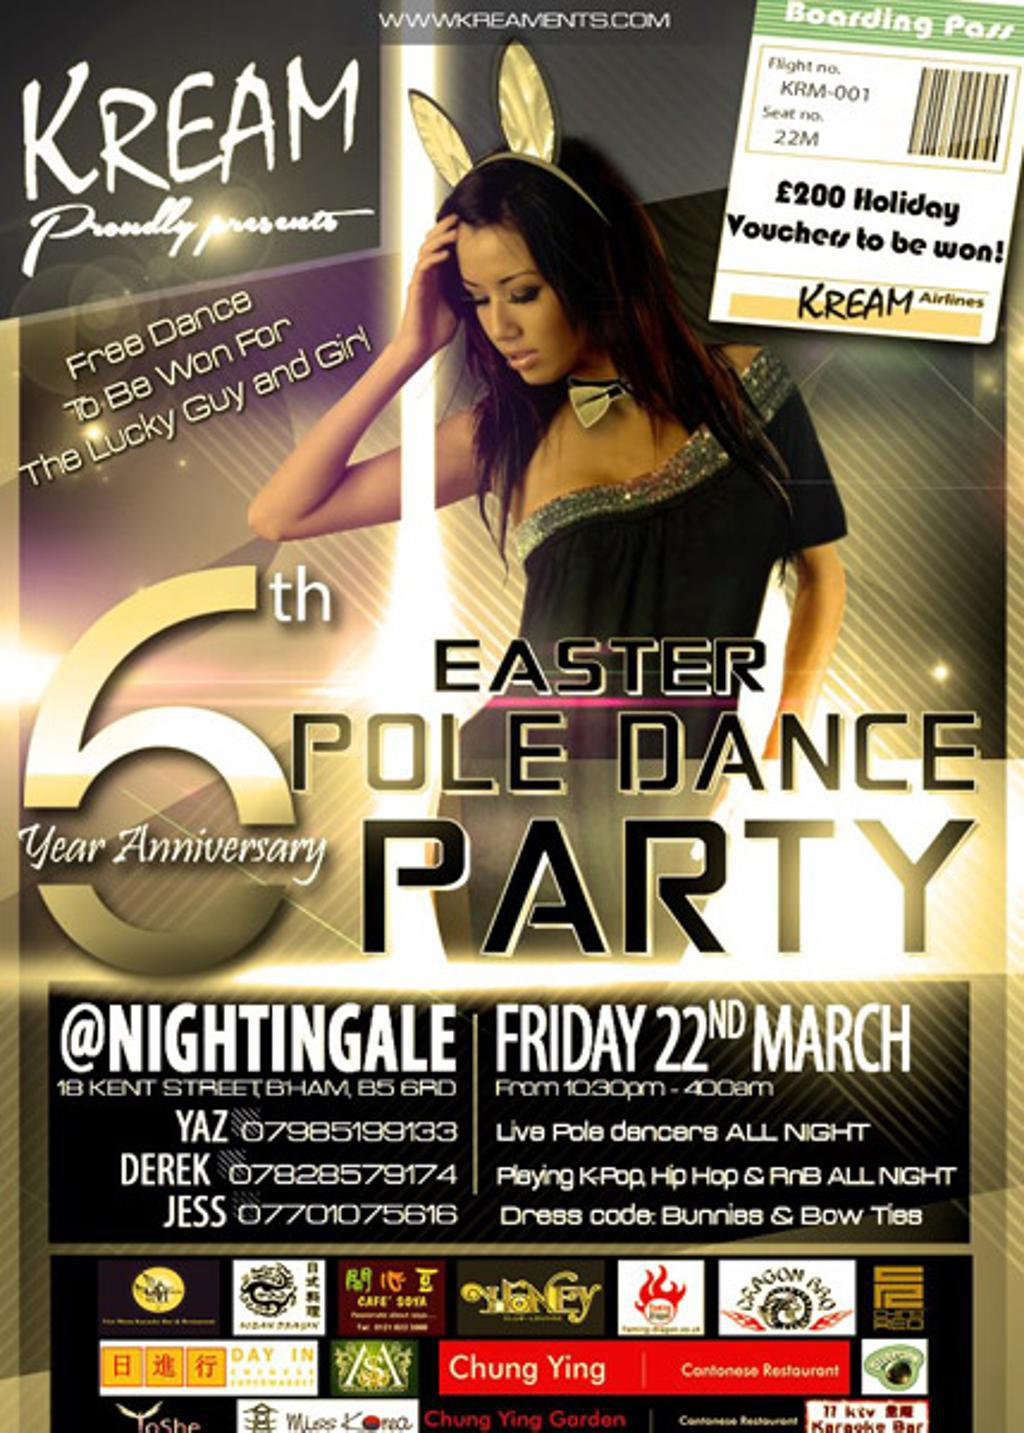face: (446, 216, 589, 389)
